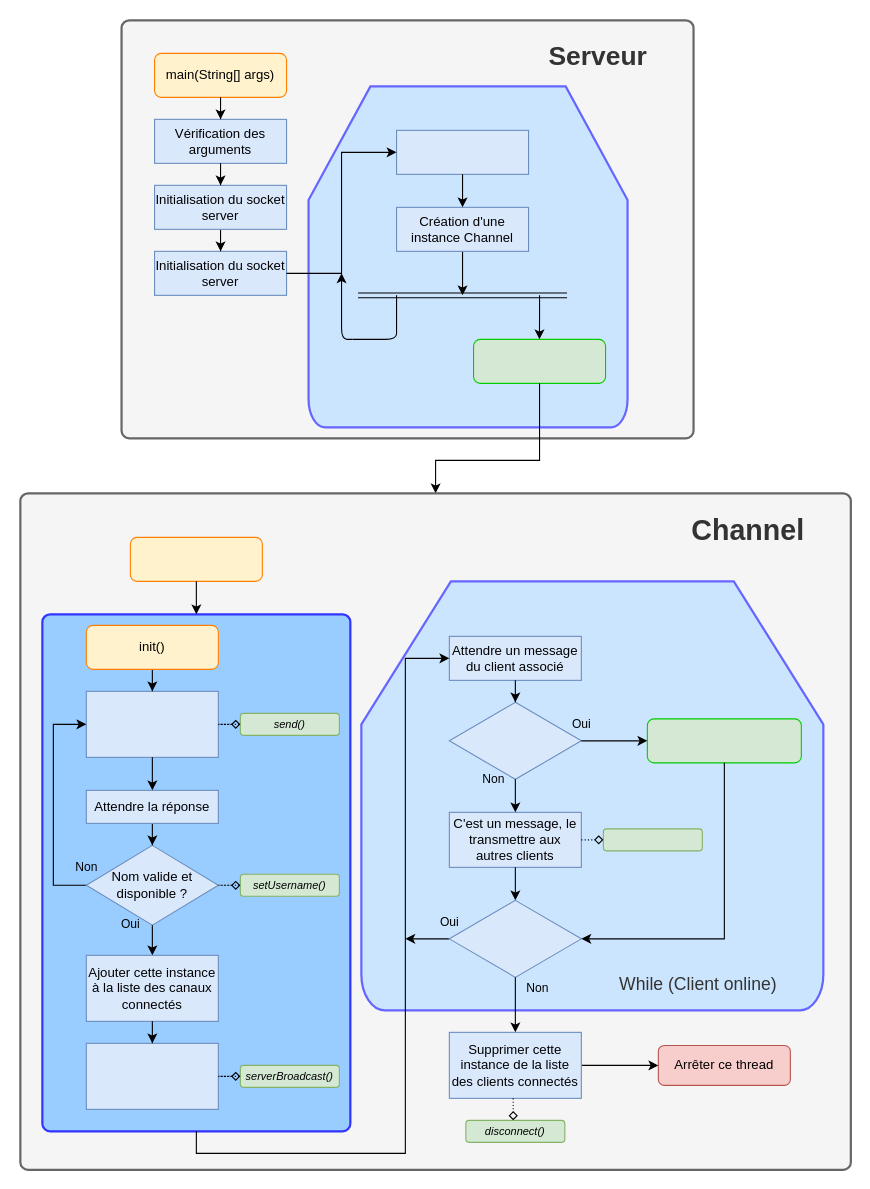
Some shapes in this 870 by 1189 pixel diagram are drawn without their labels. Each missing label, with the box of its shape:
Annoncer à tous l'arrivée d'un nouvel utilisateur: (85, 1042, 218, 1109)
Attendre une connexion: (395, 129, 529, 174)
broadcast(): (602, 828, 702, 851)
C'est une commande ?: (448, 701, 581, 779)
Channel.run(): (472, 338, 606, 383)
Client toujours en ligne?: (448, 899, 581, 977)
Demander au client son nom d'utilisateur: (85, 690, 218, 757)
execCommand(): (646, 718, 801, 763)
run(): (129, 536, 262, 581)
While (true): (307, 85, 628, 428)
